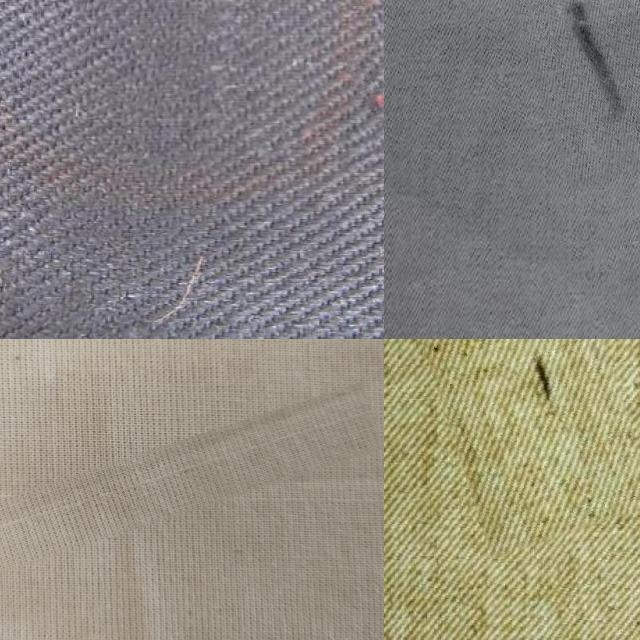Hole: (516, 0, 640, 183)
Thread_other: (0, 426, 384, 585), (387, 339, 624, 551), (352, 42, 384, 150)
